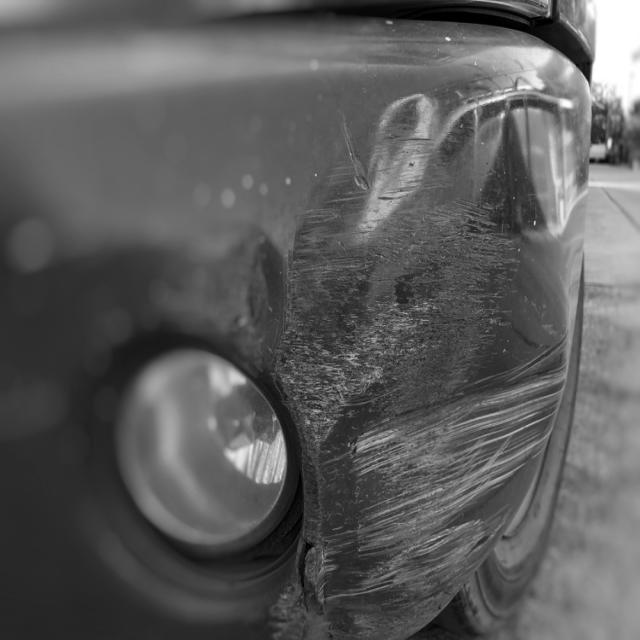dent: (361, 325, 511, 461)
scratch: (270, 125, 566, 637)
